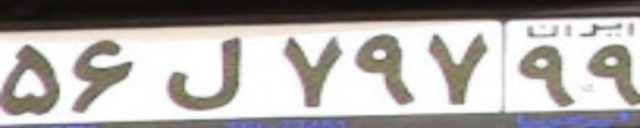5: (1, 43, 61, 114)
6: (70, 39, 133, 112)
7: (427, 32, 487, 105), (284, 36, 342, 107)
9: (354, 33, 417, 106), (514, 44, 575, 106), (584, 44, 638, 106)
lam: (166, 36, 239, 111)
